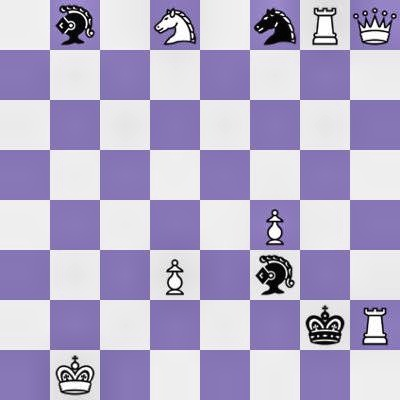black-bishop: (50, 0, 100, 50), (250, 250, 300, 300)
black-king: (300, 300, 350, 350)
black-knight: (250, 0, 300, 50)
white-king: (50, 350, 100, 400)
white-knight: (150, 0, 200, 50)
white-pawn: (250, 200, 300, 250), (150, 250, 200, 300)
white-queen: (350, 0, 400, 50)
white-rook: (300, 0, 350, 50), (350, 300, 400, 350)
